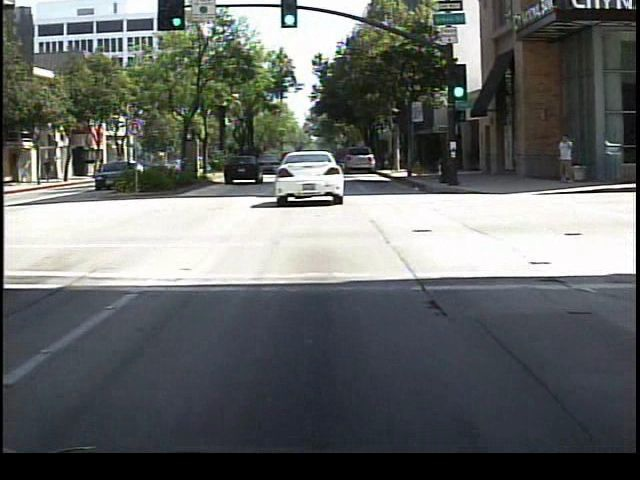person: (553, 134, 577, 190), (41, 156, 56, 190)
